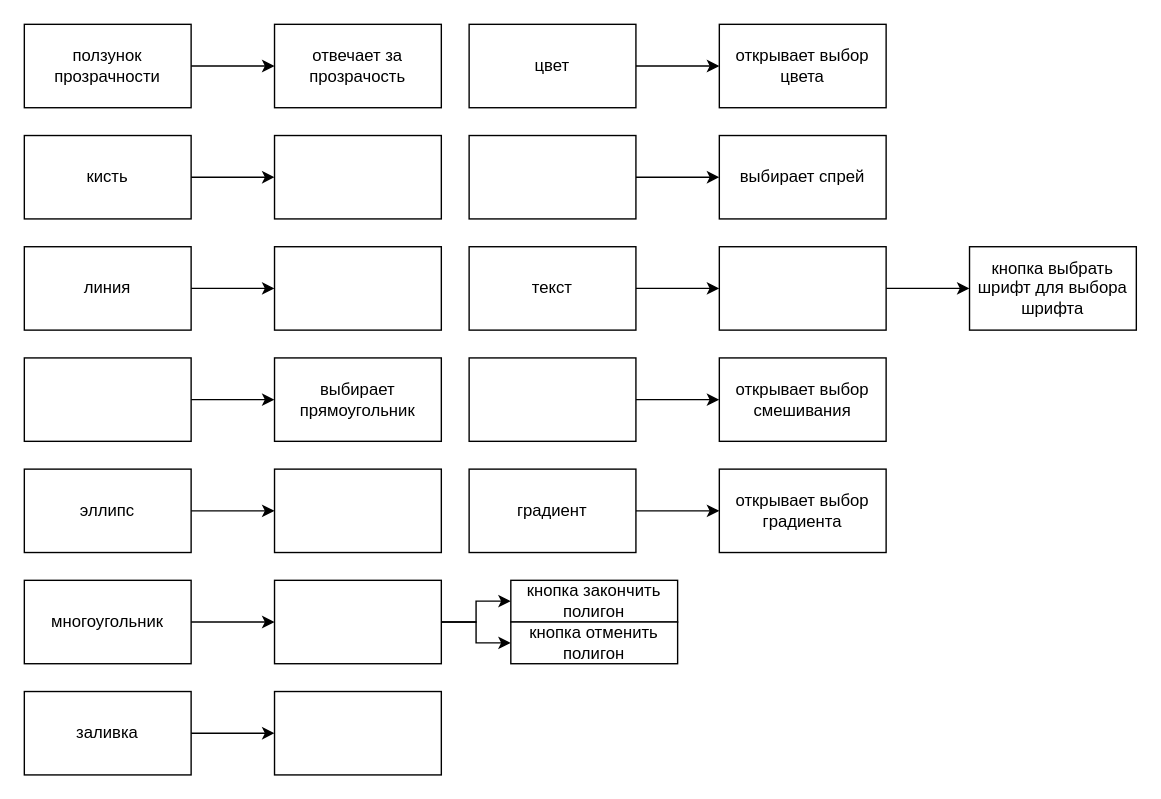
This 1161x799 diagram has some shape labels left out. The shapes that lost their labels are listed below. From the top down, each one's centre as x and y in pixels, then its label:
At (357,176): "выбирает кисть".
At (552,176): "спрей".
At (357,287): "выбирает линию".
At (802,287): "выбирает текст".
At (107,399): "прямоугольник".
At (552,399): "смешивание".
At (357,510): "выбирает эллипс".
At (357,621): "выбирает полигон".
At (357,732): "выбирает заливку".
